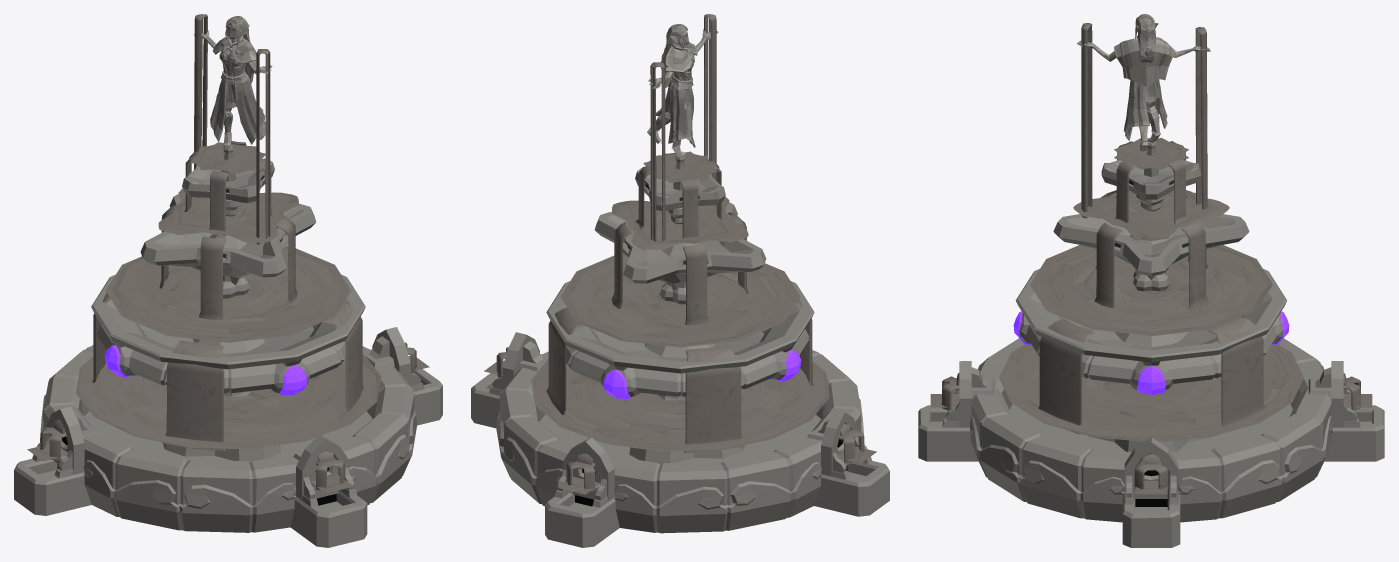
Rendered from el_bld_fountain.gltf.
3 views of the same model, side by side, from view 1: azimuth 30°, elevation 25°; view 2: azimuth 150°, elevation 25°; view 3: azimuth 270°, elevation 25° (orthographic). The views are drawn at different scales.
Visible parts, largest first — view 1: el_bld_fountain; view 2: el_bld_fountain; view 3: el_bld_fountain.
Boxes of the visible parts, x1=… form: el_bld_fountain: x1=14, y1=14, x2=442, y2=547; el_bld_fountain: x1=471, y1=14, x2=889, y2=547; el_bld_fountain: x1=918, y1=14, x2=1384, y2=547.
Size of the model in its own units: 6.4 by 6.61 by 6.4.
Materials: 2 (2 with a texture image).
